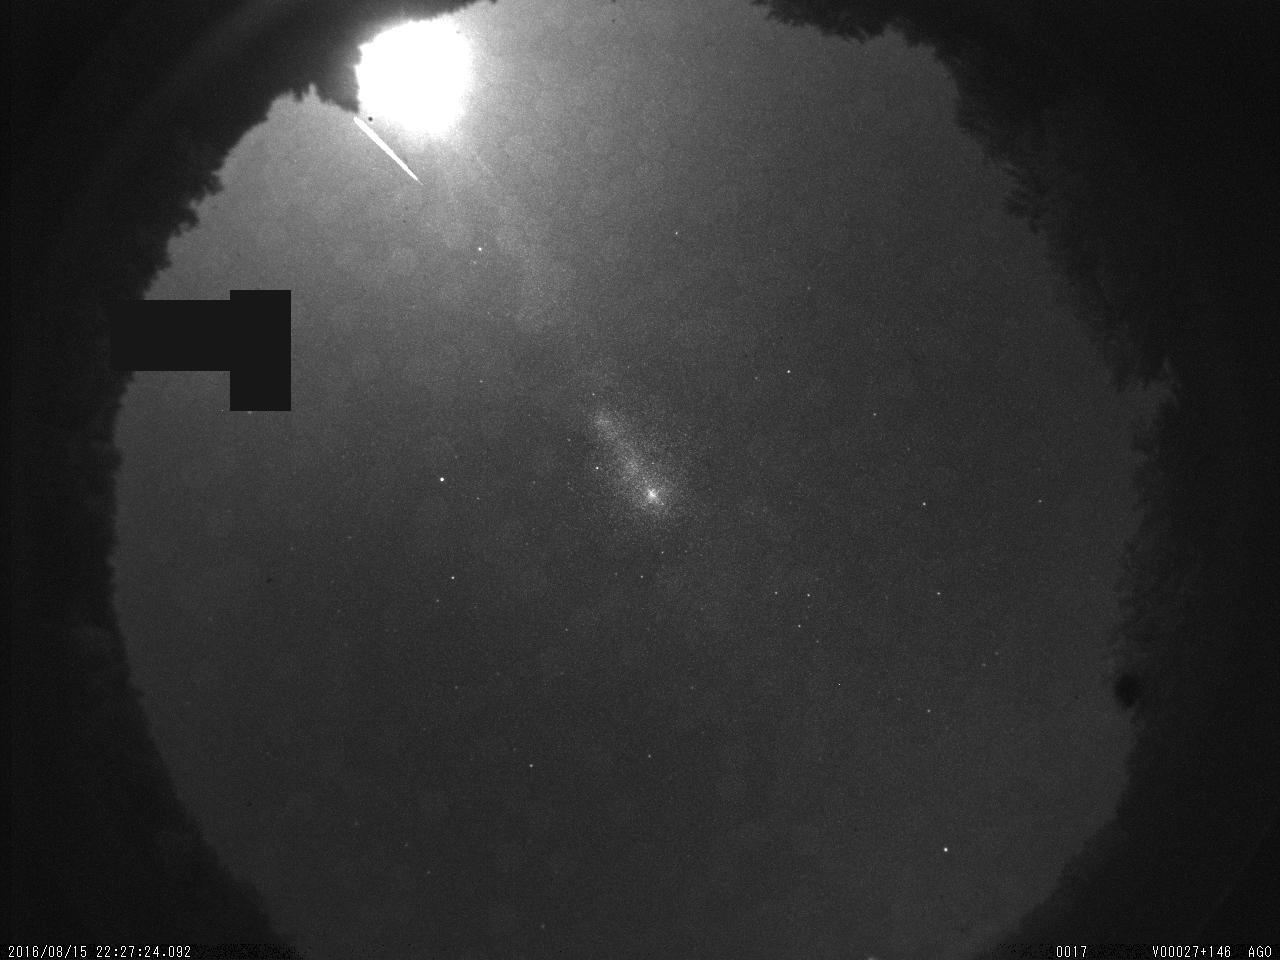meteor: (346, 114, 433, 192)
